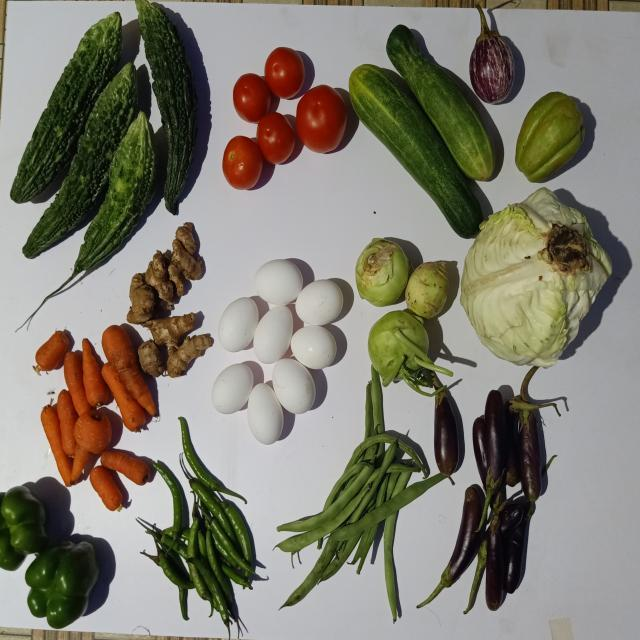Beans: (278, 369, 432, 608), (330, 473, 447, 541), (281, 538, 339, 608), (384, 513, 397, 623), (392, 472, 411, 497)
Bitter Gourd: (22, 62, 137, 258), (9, 11, 121, 203), (70, 110, 155, 278), (135, 0, 197, 214)
Brinjal: (519, 410, 542, 503), (434, 395, 459, 476), (485, 390, 507, 482), (612, 241, 634, 293), (473, 416, 488, 491), (621, 418, 626, 436)
Cabbage: (461, 187, 613, 367)
Capsicum: (24, 542, 98, 630), (101, 325, 156, 416), (596, 248, 640, 288), (614, 275, 618, 277), (612, 273, 613, 275)
Carrot: (101, 325, 156, 416), (101, 362, 145, 431), (81, 338, 107, 406), (100, 451, 149, 486)
Chayote: (516, 91, 586, 181)
Cucumber: (0, 1, 640, 639), (349, 63, 484, 238), (387, 24, 495, 180)
Egg: (272, 358, 316, 414), (253, 306, 293, 364), (254, 259, 303, 305), (248, 383, 284, 445), (218, 297, 258, 352), (296, 279, 343, 325), (211, 363, 253, 414), (290, 325, 337, 369)
Eggplant: (470, 3, 515, 102)
Green Chilly: (178, 417, 247, 504), (208, 518, 254, 575), (152, 462, 182, 538), (221, 502, 252, 567)
Tomato: (296, 84, 347, 152), (222, 135, 263, 189), (264, 46, 305, 97), (257, 111, 295, 163), (233, 72, 270, 122)
Turnip: (368, 310, 453, 395), (356, 238, 409, 306), (406, 261, 449, 318)
